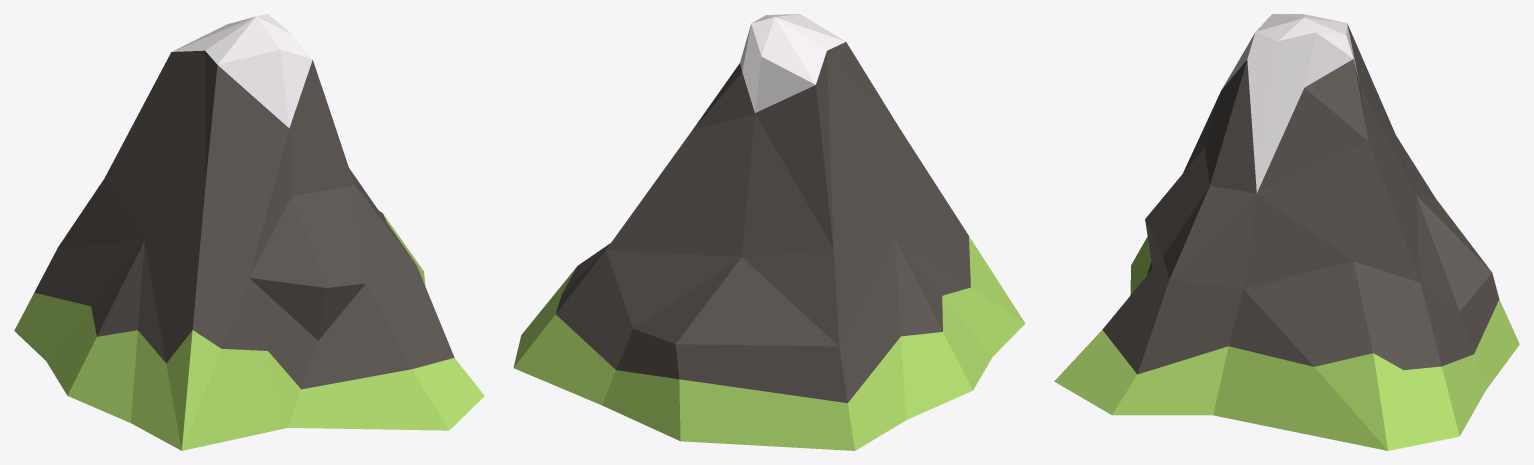
File: M_Mountain 1.fbx
3 renders of one model, left to right at view 1: azimuth 30°, elevation 25°; view 2: azimuth 150°, elevation 25°; view 3: azimuth 270°, elevation 25°, orthographic.
Parts seen in each view (by area): view 1: 立方体; view 2: 立方体; view 3: 立方体.
Part boxes in pixels (x1,y1,x2,y2): 立方体: [14, 14, 484, 450]; 立方体: [513, 14, 1025, 450]; 立方体: [1054, 14, 1519, 450].
Bounding box in the file's own units: 783 × 631 × 795.
